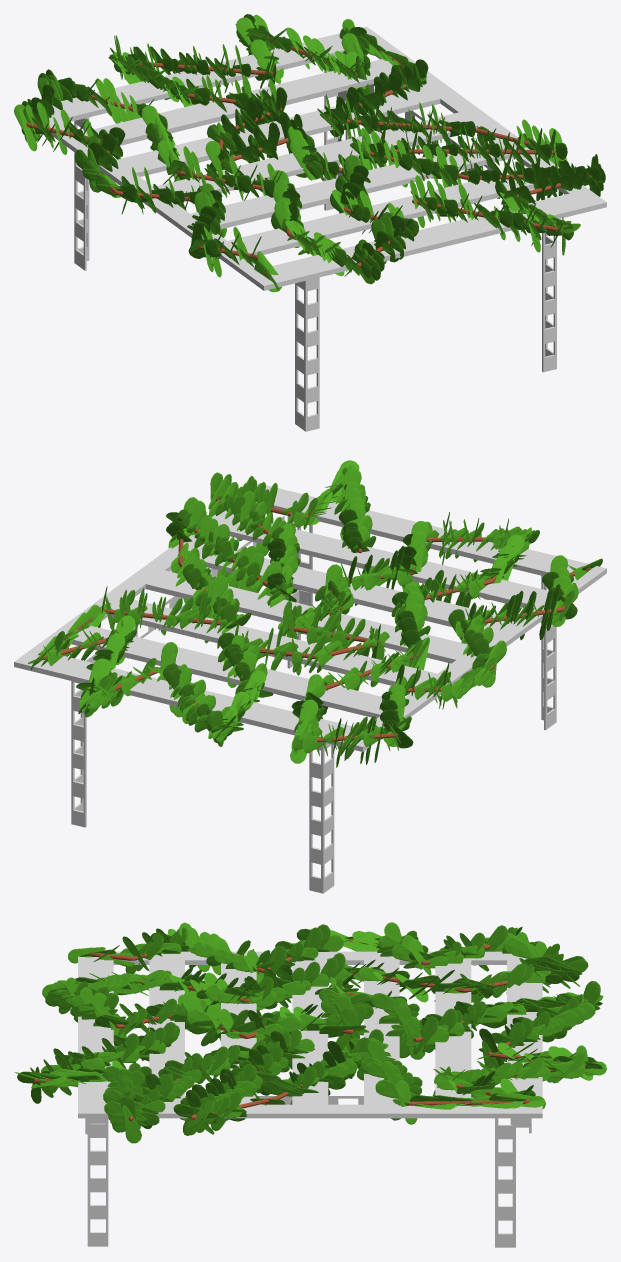
The model's file is Stand-Cafee-01.fbx.
The picture shows the model from 3 angles, top to bottom: view 1: azimuth 30°, elevation 25°; view 2: azimuth 150°, elevation 25°; view 3: azimuth 270°, elevation 25°; orthographic projection. The views are drawn at different scales.
Parts seen in each view (by area): view 1: TopsStands, Twigs, Cube.008, Cube.006, Cube.005, Cube.003, Cube.004; view 2: TopsStands, Twigs, Cube.004, Cube.011, Cube.003, Cube.006, Cube.012; view 3: TopsStands, Twigs, Cube.012, Cube.007, Twigs|Daun|Dupli|903.
Part boxes in pixels (x1,y1,x2,y2): TopsStands: (49,26,606,290); Twigs: (26,36,591,276); Cube.008: (542,232,556,372); Cube.006: (295,280,307,431); Cube.005: (307,277,319,431); Cube.003: (75,118,86,270); Cube.004: (74,117,89,263); TopsStands: (14,483,606,751); Twigs: (41,497,589,742); Cube.004: (309,745,324,893); Cube.011: (73,681,86,827); Cube.003: (324,743,334,892); Cube.006: (544,584,556,730); Cube.012: (71,660,83,824); TopsStands: (78,951,542,1118); Twigs: (33,939,585,1121); Cube.012: (495,1118,515,1247); Cube.007: (90,1118,108,1246); Twigs|Daun|Dupli|903: (122,1105,141,1143).
Size of the model in its own units: 4622 by 2141 by 6309.
